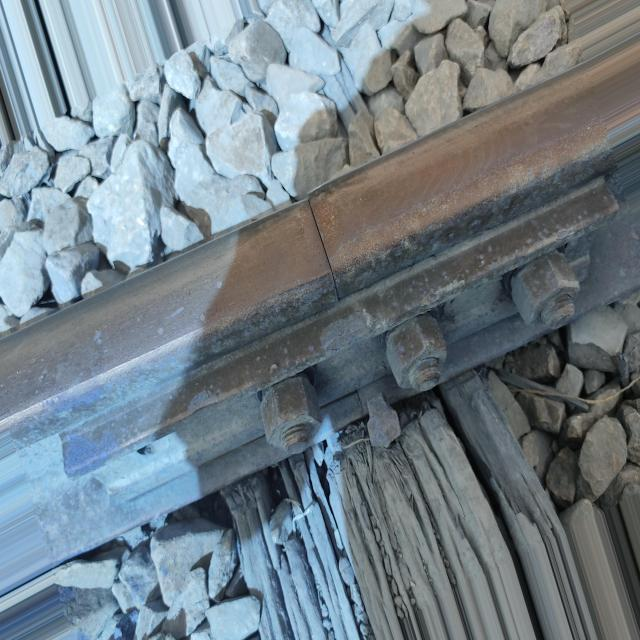Defective Joint: (67, 180, 620, 512)
